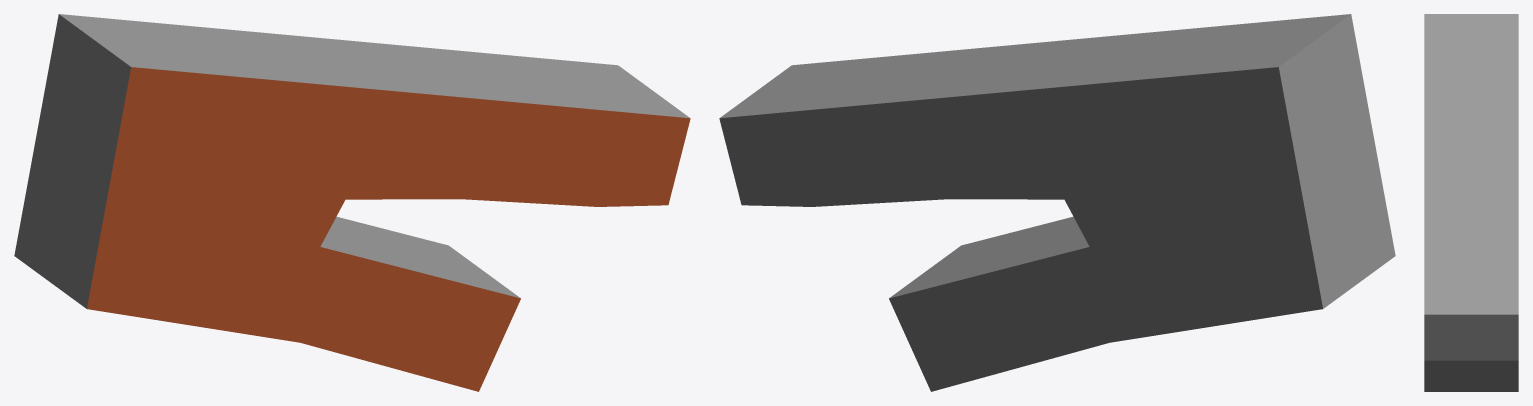
File: construction_3654_assumed_A_Casa_h6m.obj
The picture shows the model from 3 angles, left to right: view 1: azimuth 30°, elevation 25°; view 2: azimuth 150°, elevation 25°; view 3: azimuth 270°, elevation 25°; orthographic projection. The views are drawn at different scales.
Parts seen in each view (by area): view 1: construction_3654_assumed_A_Casa; view 2: construction_3654_assumed_A_Casa; view 3: construction_3654_assumed_A_Casa.
Part boxes in pixels (x1,y1,x2,y2): construction_3654_assumed_A_Casa: (14,14,690,391); construction_3654_assumed_A_Casa: (719,14,1395,391); construction_3654_assumed_A_Casa: (1424,14,1518,391).
Bounding box in the file's own units: 28.85 × 18.71 × 6.
